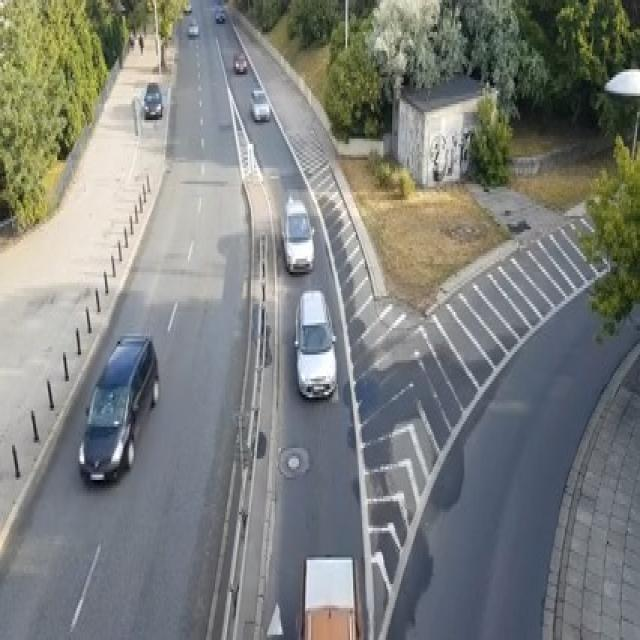bus: (299, 552, 359, 637)
car: (78, 330, 159, 482), (293, 288, 336, 400), (279, 195, 314, 272), (143, 80, 162, 117), (250, 88, 270, 120), (233, 51, 246, 72), (186, 16, 198, 35), (215, 6, 225, 22), (183, 0, 190, 13)
